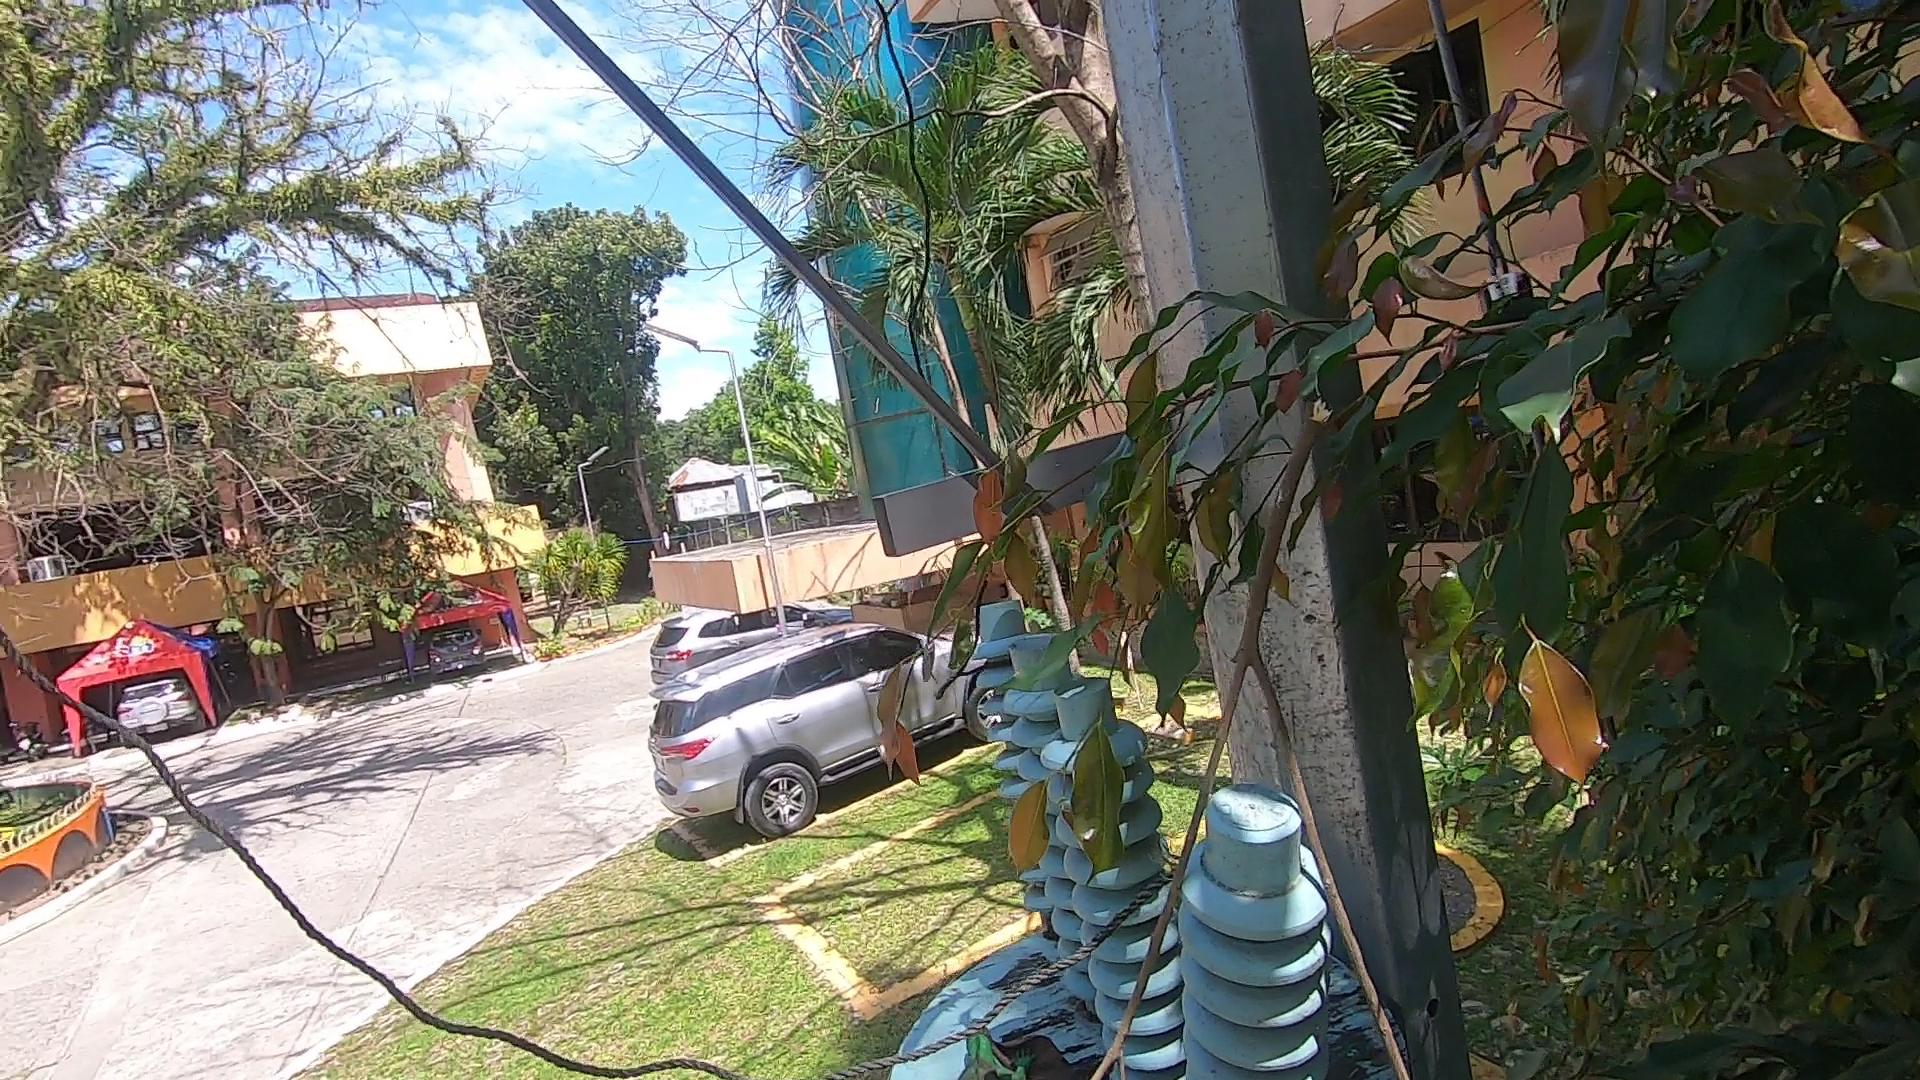leaf: (1021, 1034, 1102, 1080)
tree branch: (1065, 382, 1473, 1080)
